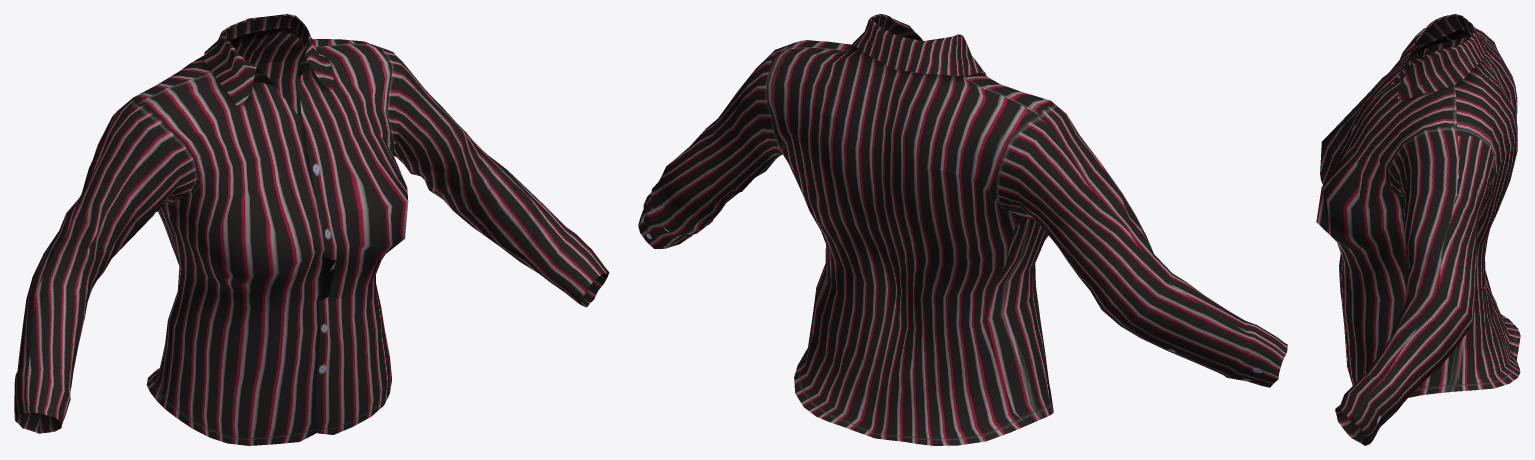
Rendered from LM_XLF.dae.
The picture shows the model from 3 angles, left to right: view 1: azimuth 30°, elevation 25°; view 2: azimuth 150°, elevation 25°; view 3: azimuth 270°, elevation 25°; orthographic projection. The views are drawn at different scales.
Parts seen in each view (by area): view 1: LM; view 2: LM; view 3: LM.
Boxes of the visible parts, <box> form: LM: <box>14,14,609,445</box>; LM: <box>638,14,1287,445</box>; LM: <box>1316,14,1520,445</box>.
Bounding box in the file's own units: 9.01 × 5.47 × 2.91.
